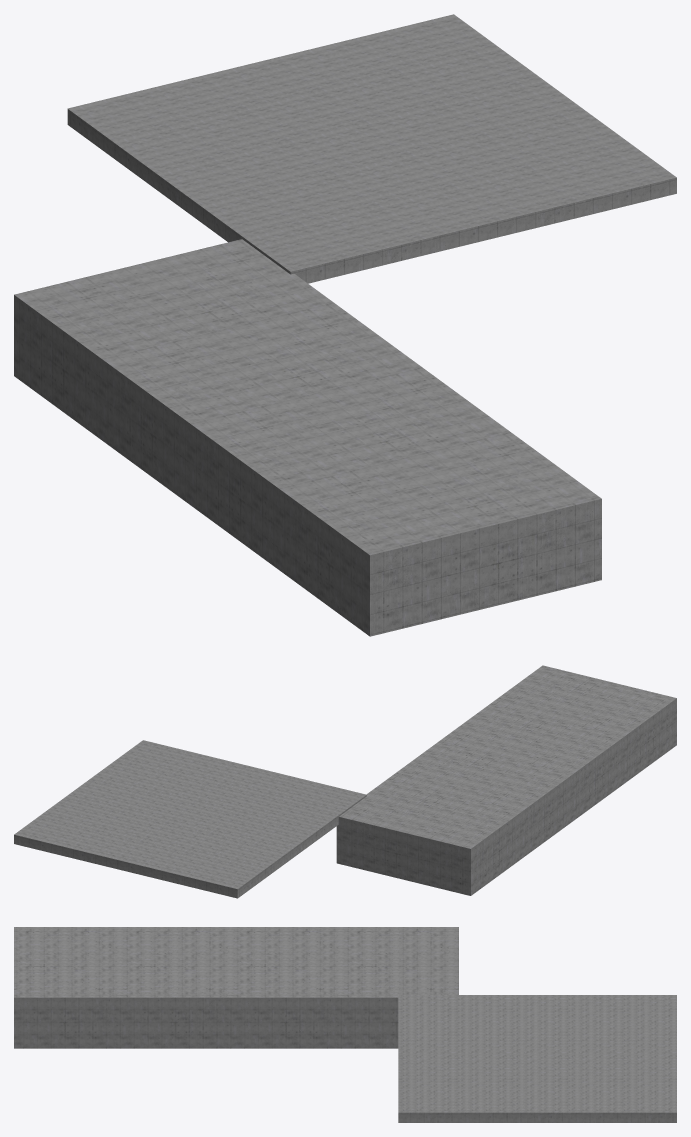
Rendered from world01_ground01.glb.
3 views of the same model, one above another, from view 1: azimuth 30°, elevation 25°; view 2: azimuth 150°, elevation 25°; view 3: azimuth 270°, elevation 25° (orthographic). The views are drawn at different scales.
Parts seen in each view (by area): view 1: Prop.world01_ground01; view 2: Prop.world01_ground01; view 3: Prop.world01_ground01.
Part boxes in pixels (bbox=[...]): Prop.world01_ground01: bbox=[14, 14, 676, 636]; Prop.world01_ground01: bbox=[14, 665, 676, 898]; Prop.world01_ground01: bbox=[14, 927, 676, 1122].
Bounding box in the file's own units: 9.86 × 1.29 × 14.75.
1 material, 1 textured.
